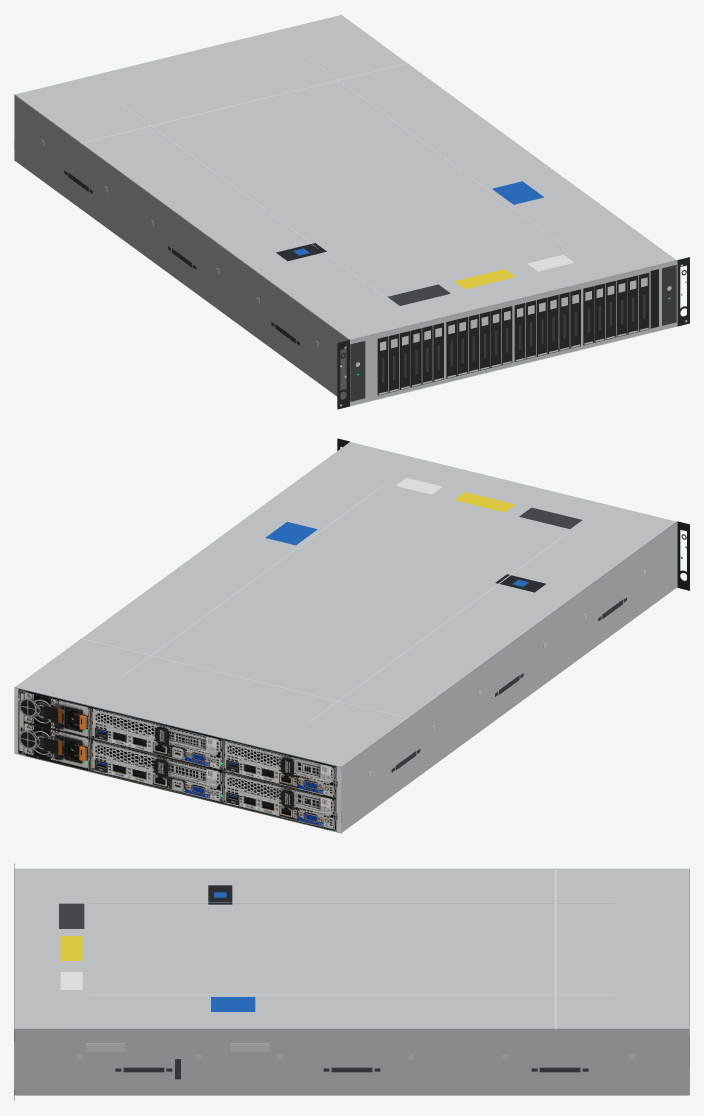
File: Dell-PowerEdge-C6300-4xC6320-24SFF-standard.glb
3 renders of one model, top to bottom at view 1: azimuth 30°, elevation 25°; view 2: azimuth 150°, elevation 25°; view 3: azimuth 270°, elevation 25°, orthographic.
Visible parts, largest first — view 1: Closed_2U_Chassis_Core, Front_Left_Control_Panel, Front_Right_Control_Panel, Top_Blue_Rectangular_Pad, Top_Factory_Label_Block_Black; view 2: Closed_2U_Chassis_Core, Rear_SourceLocked_Texture, Top_Blue_Rectangular_Pad, Top_Factory_Label_Block_Black, Physical_Left_SourceLocked_Texture; view 3: Closed_2U_Chassis_Core, Physical_Right_SourceLocked_Texture, Top_Longitudinal_Seam_1, Top_SourceLocked_Texture, Top_Blue_Rectangular_Pad, Top_Factory_Label_Block_Black, Top_Factory_Label_Block_Yellow, Top_Longitudinal_Seam_2, Top_Cover_Stepped_Seam, Top_Black_Oval_Pad, Top_Factory_Label_Block_White.
Boxes of the visible parts, left/top/right/bottom form: Closed_2U_Chassis_Core: left=14, top=15, right=676, bottom=405; Front_Left_Control_Panel: left=350, top=341, right=365, bottom=401; Front_Right_Control_Panel: left=662, top=265, right=676, bottom=325; Top_Blue_Rectangular_Pad: left=492, top=181, right=543, bottom=204; Top_Factory_Label_Block_Black: left=387, top=284, right=450, bottom=305; Closed_2U_Chassis_Core: left=15, top=442, right=676, bottom=832; Rear_SourceLocked_Texture: left=14, top=687, right=341, bottom=832; Top_Blue_Rectangular_Pad: left=265, top=522, right=317, bottom=545; Top_Factory_Label_Block_Black: left=519, top=507, right=582, bottom=528; Physical_Left_SourceLocked_Texture: left=341, top=521, right=676, bottom=832; Closed_2U_Chassis_Core: left=14, top=868, right=689, bottom=1095; Physical_Right_SourceLocked_Texture: left=14, top=1028, right=689, bottom=1095; Top_Longitudinal_Seam_1: left=89, top=902, right=614, bottom=903; Top_SourceLocked_Texture: left=14, top=869, right=689, bottom=1029; Top_Blue_Rectangular_Pad: left=211, top=997, right=255, bottom=1011; Top_Factory_Label_Block_Black: left=59, top=903, right=84, bottom=928; Top_Factory_Label_Block_Yellow: left=60, top=936, right=82, bottom=960; Top_Longitudinal_Seam_2: left=88, top=994, right=615, bottom=994; Top_Cover_Stepped_Seam: left=554, top=868, right=556, bottom=1029; Top_Black_Oval_Pad: left=208, top=885, right=232, bottom=904; Top_Factory_Label_Block_White: left=60, top=972, right=82, bottom=989.
Bounding box in the file's own units: 0.4823 × 0.0868 × 0.7959.
Materials: 15 (6 with a texture image).
